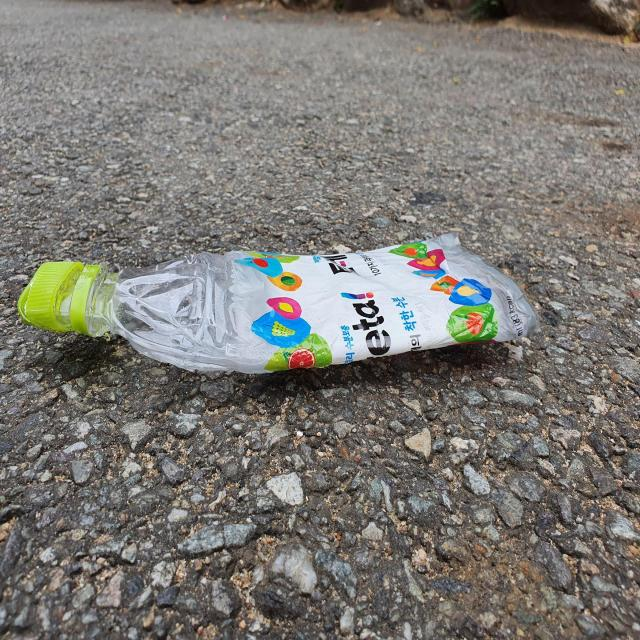plastic: (17, 233, 538, 374)
